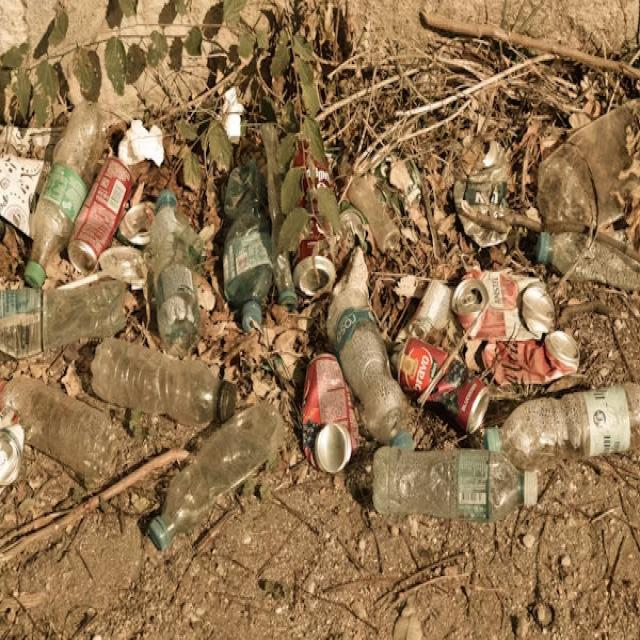Bottle: (149, 402, 284, 550), (328, 247, 407, 444), (25, 103, 105, 287), (486, 383, 639, 468), (537, 100, 639, 225), (91, 340, 235, 427), (2, 376, 117, 483), (373, 447, 537, 521), (0, 282, 126, 358), (148, 191, 203, 356), (223, 162, 273, 331), (292, 144, 337, 295), (262, 124, 297, 310), (537, 232, 639, 291), (347, 175, 399, 252), (0, 405, 24, 486)
